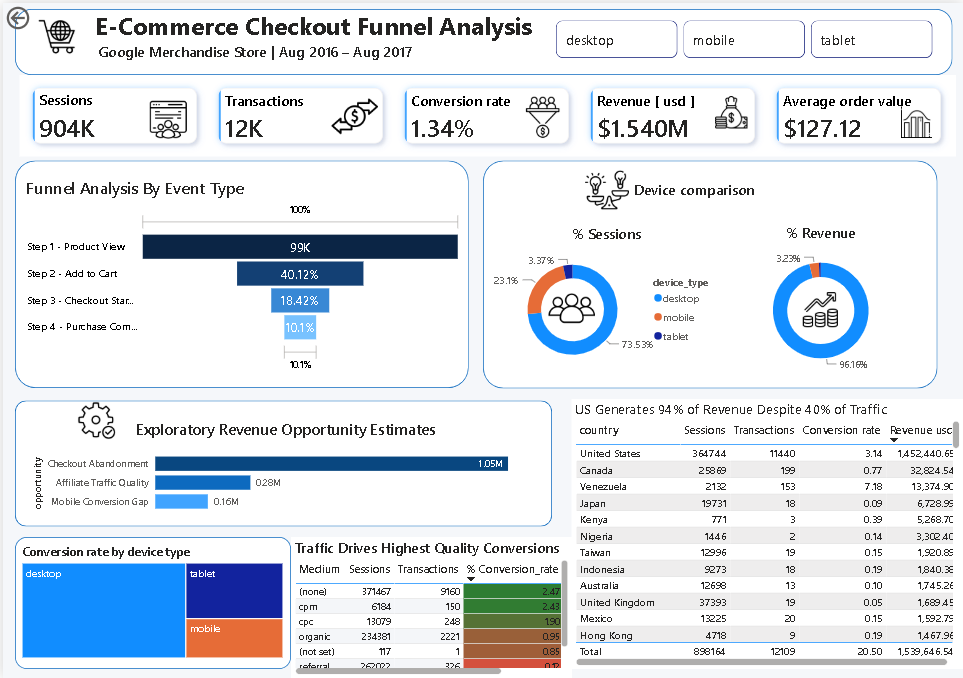

The dashboard page shown, as its layout file describes it:
{"tool":"powerbi","page":{"name":"Page 1","canvas":[1280,900],"ordinal":0},"visuals":[{"type":"shape","box":[16,712,368,176],"z":0},{"type":"shape","box":[16,530,716,168],"z":1000},{"type":"shape","box":[16.7,210.8,605,303.3],"z":2000},{"type":"shape","box":[640,210,606,304],"z":3000},{"type":"shape","box":[16,8,1250,88],"z":4000},{"type":"cardVisual","fields":{"Data":["Sum(kpi.total_sessions)","Sum(kpi.total_transactions)","Sum(kpi.conversion_rate_pct)","Sum(kpi.total_revenue_usd)","Sum(kpi.avg_order_value)"]},"box":[21.7,96.7,1248.3,108.3],"z":5000},{"type":"textbox","box":[118,8,614,88],"z":6000},{"type":"funnel","title":"Checkout Funnel — Where Are We Losing Users?","fields":{"Category":["funnel.funnel_step"],"Y":["Sum(funnel.users)"]},"box":[25,230,590,266.7],"z":7000},{"type":"actionButton","box":[0,0,100,40],"z":8000},{"type":"donutChart","title":"% Sessions","fields":{"Y":["Sum(device.total_sessions)"],"Category":["device.device_type"]},"box":[646,294,316,204],"z":9000},{"type":"donutChart","title":"% Revenue","fields":{"Category":["device.device_type"],"Y":["Sum(device.revenue_usd)"]},"box":[961.7,291.7,256,210],"z":10000},{"type":"tableEx","title":"Traffic Drives Highest Quality Conversions","fields":{"Values":["traffic.traffic_medium","Sum(traffic.total_sessions)","Sum(traffic.transactions)","Sum(traffic.conversion_rate_pct)","Sum(traffic.revenue_usd)"]},"box":[384,712,374,188],"z":11000},{"type":"clusteredBarChart","title":"Three Fixes Worth $1.4M in Recovered Revenue","fields":{"Category":["opportunity.opportunity"],"Y":["Sum(opportunity.revenue_opportunity_usd)"]},"box":[36,554,682,136],"z":12000},{"type":"tableEx","title":"US Generates 94% of Revenue Despite 40% of Traffic","fields":{"Values":["geography.country","Sum(geography.total_sessions)","Sum(geography.transactions)","Sum(geography.conversion_rate_pct)","Sum(geography.revenue_usd)"]},"box":[758,528,522,360],"z":13000},{"type":"textbox","box":[836.7,230,211.7,38.3],"z":14000},{"type":"treemap","title":"Conversion rate by device type","fields":{"Group":["device.device_type"],"Values":["Sum(device.conversion_rate_pct)"]},"box":[20,720,358,158],"z":15000},{"type":"image","box":[16.7,20,111.7,50],"z":16000},{"type":"image","box":[723.3,376.7,68.3,61.7],"z":17000},{"type":"image","box":[1046.7,383.3,86.7,50],"z":18000},{"type":"image","box":[438.3,116.7,61.7,70],"z":19000},{"type":"image","box":[645,123.3,146.7,56.7],"z":20000},{"type":"image","box":[920,123.3,101.7,43.3],"z":21000},{"type":"image","box":[1171.7,138.3,91.7,41.7],"z":22000},{"type":"image","box":[158.3,123.3,125,63.3],"z":23000},{"type":"image","box":[765,220,78.3,58.3],"z":24000},{"type":"image","box":[92,530,66,54],"z":25000},{"type":"advancedSlicerVisual","title":"Device type","fields":{"Values":["device.device_type"]},"box":[731.7,18.3,513.3,60],"z":26000}]}

Visuals, with their boxes in screenshot pixels (x1, y1, x2, y2), scaled from the page's 1280x900 canvas onto the 963x678 screenshot:
shape: 12/536/289/669
shape: 12/399/551/526
shape: 13/159/468/387
shape: 482/158/937/387
shape: 12/6/952/72
cardVisual - Sum(kpi.total_sessions) x Sum(kpi.total_transactions): 16/73/955/154
textbox: 89/6/551/72
"Checkout Funnel — Where Are We Losing Users?" funnel: 19/173/463/374
actionButton: 0/0/75/30
"% Sessions" donutChart: 486/221/724/375
"% Revenue" donutChart: 724/220/916/378
"Traffic Drives Highest Quality Conversions" tableEx: 289/536/570/677
"Three Fixes Worth $1.4M in Recovered Revenue" clusteredBarChart: 27/417/540/520
"US Generates 94% of Revenue Despite 40% of Traffic" tableEx: 570/398/962/669
textbox: 629/173/789/202
"Conversion rate by device type" treemap: 15/542/284/661
image: 13/15/97/53
image: 544/284/596/330
image: 787/289/853/326
image: 330/88/376/141
image: 485/93/596/136
image: 692/93/769/126
image: 882/104/951/136
image: 119/93/213/141
image: 576/166/634/210
image: 69/399/119/440
"Device type" advancedSlicerVisual: 550/14/937/59
